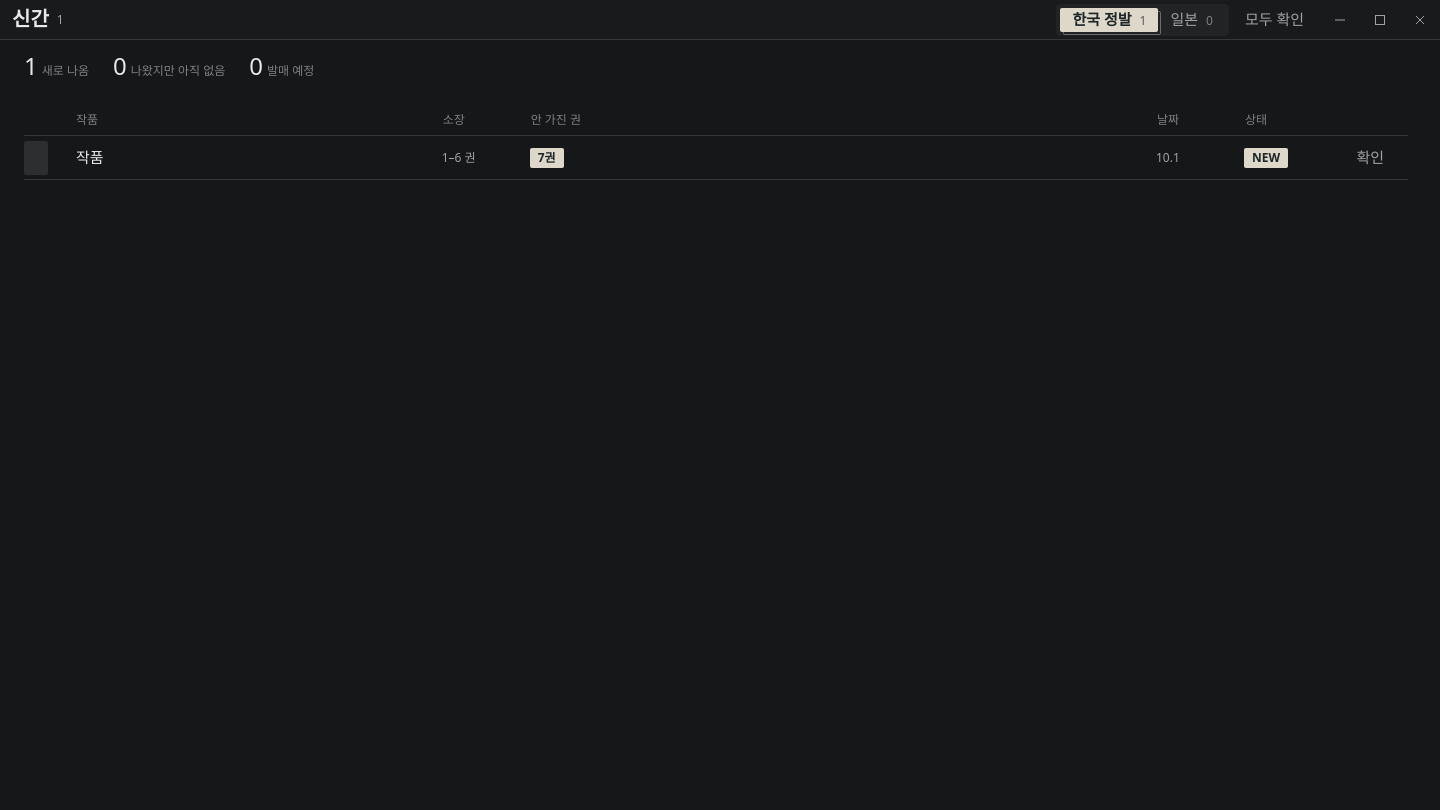
Scenario: does not acknowledge on open, and confirming a notification does not mark ownership
Check: the button "작품" is shown, box [68, 144, 112, 172]
Click the button "모두 확인" at (1274, 20), box [1237, 6, 1312, 34]
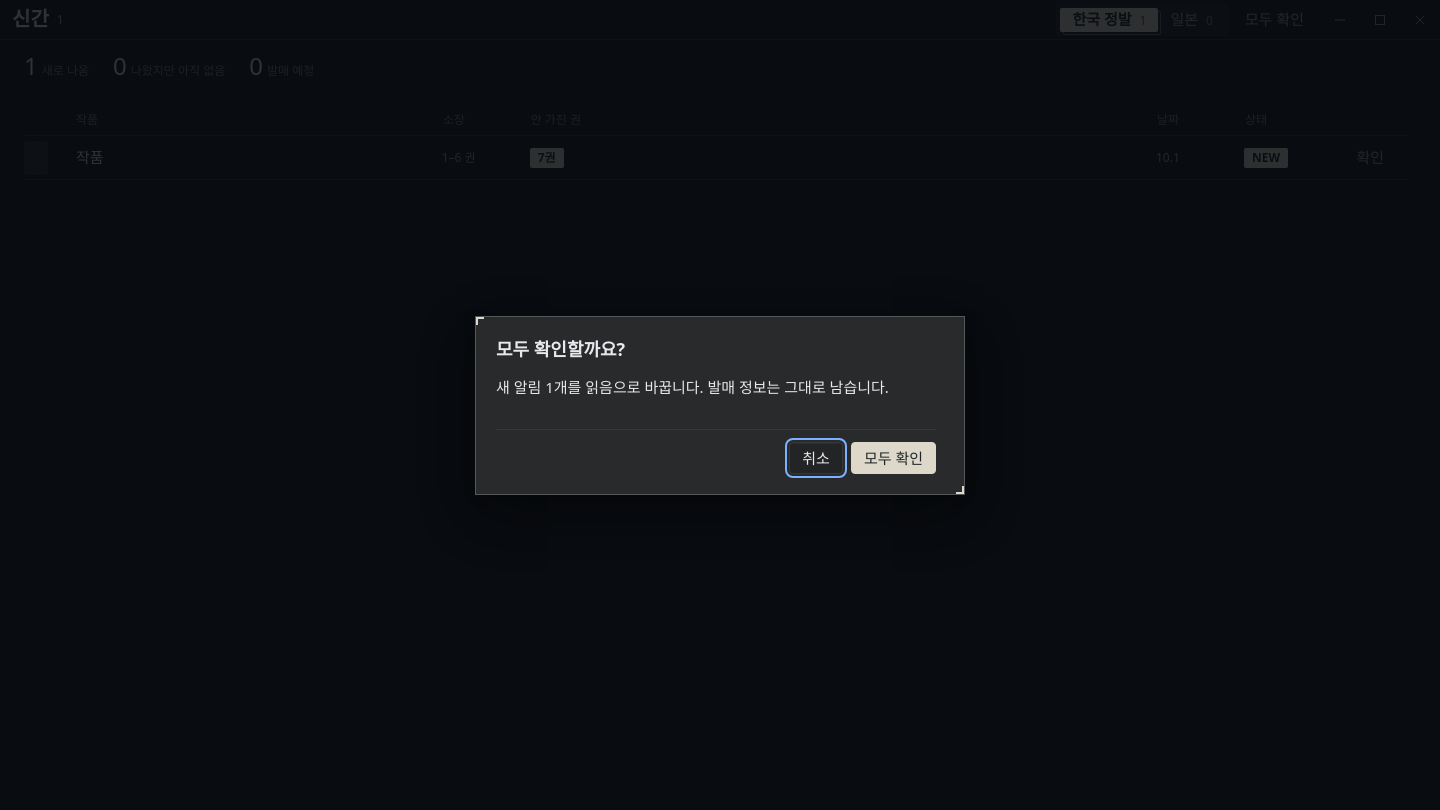
Click the button "모두 확인" at (893, 458), box [851, 442, 936, 474]
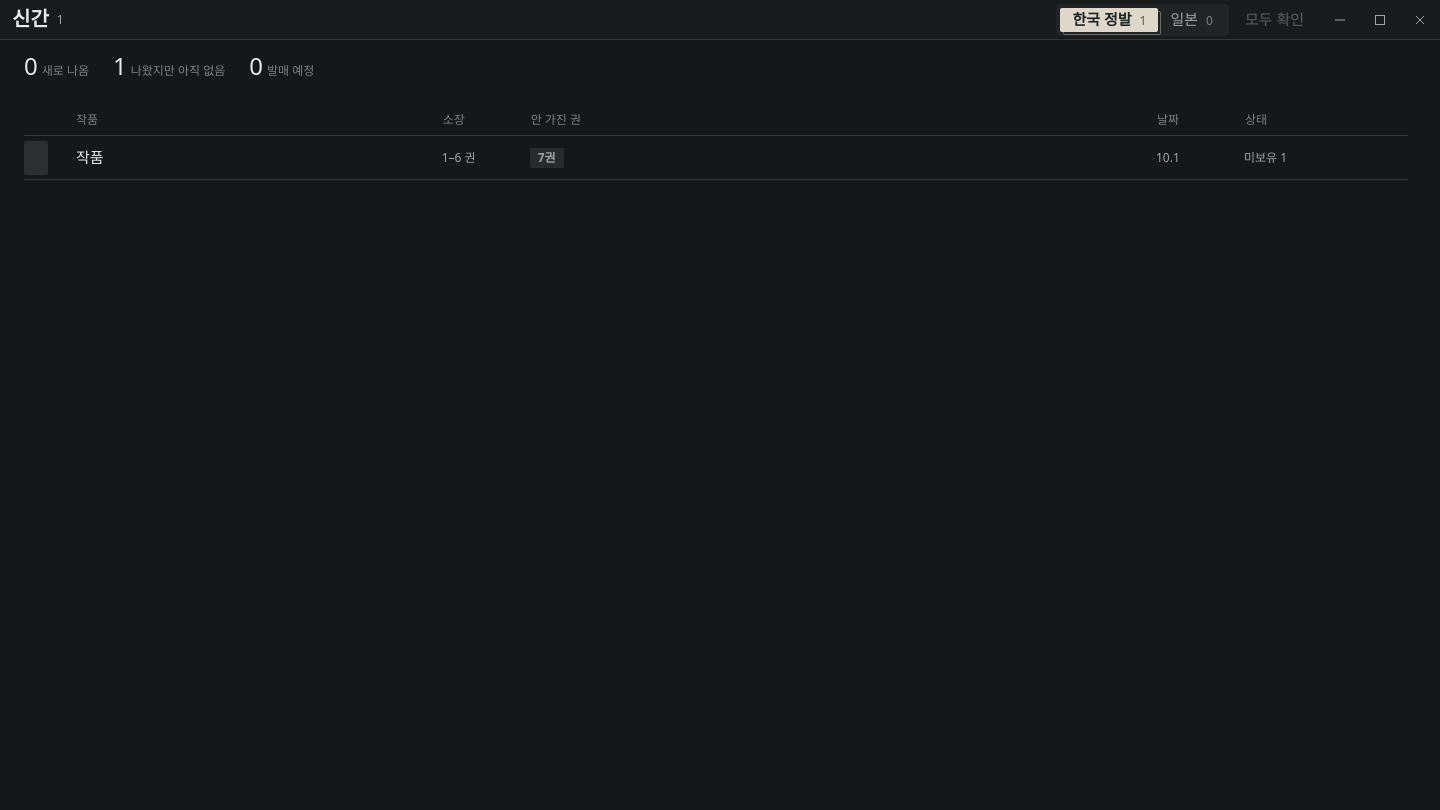
Check: the text "7권" is shown, box [538, 152, 556, 164]
Check: the text "NEW" is gone
